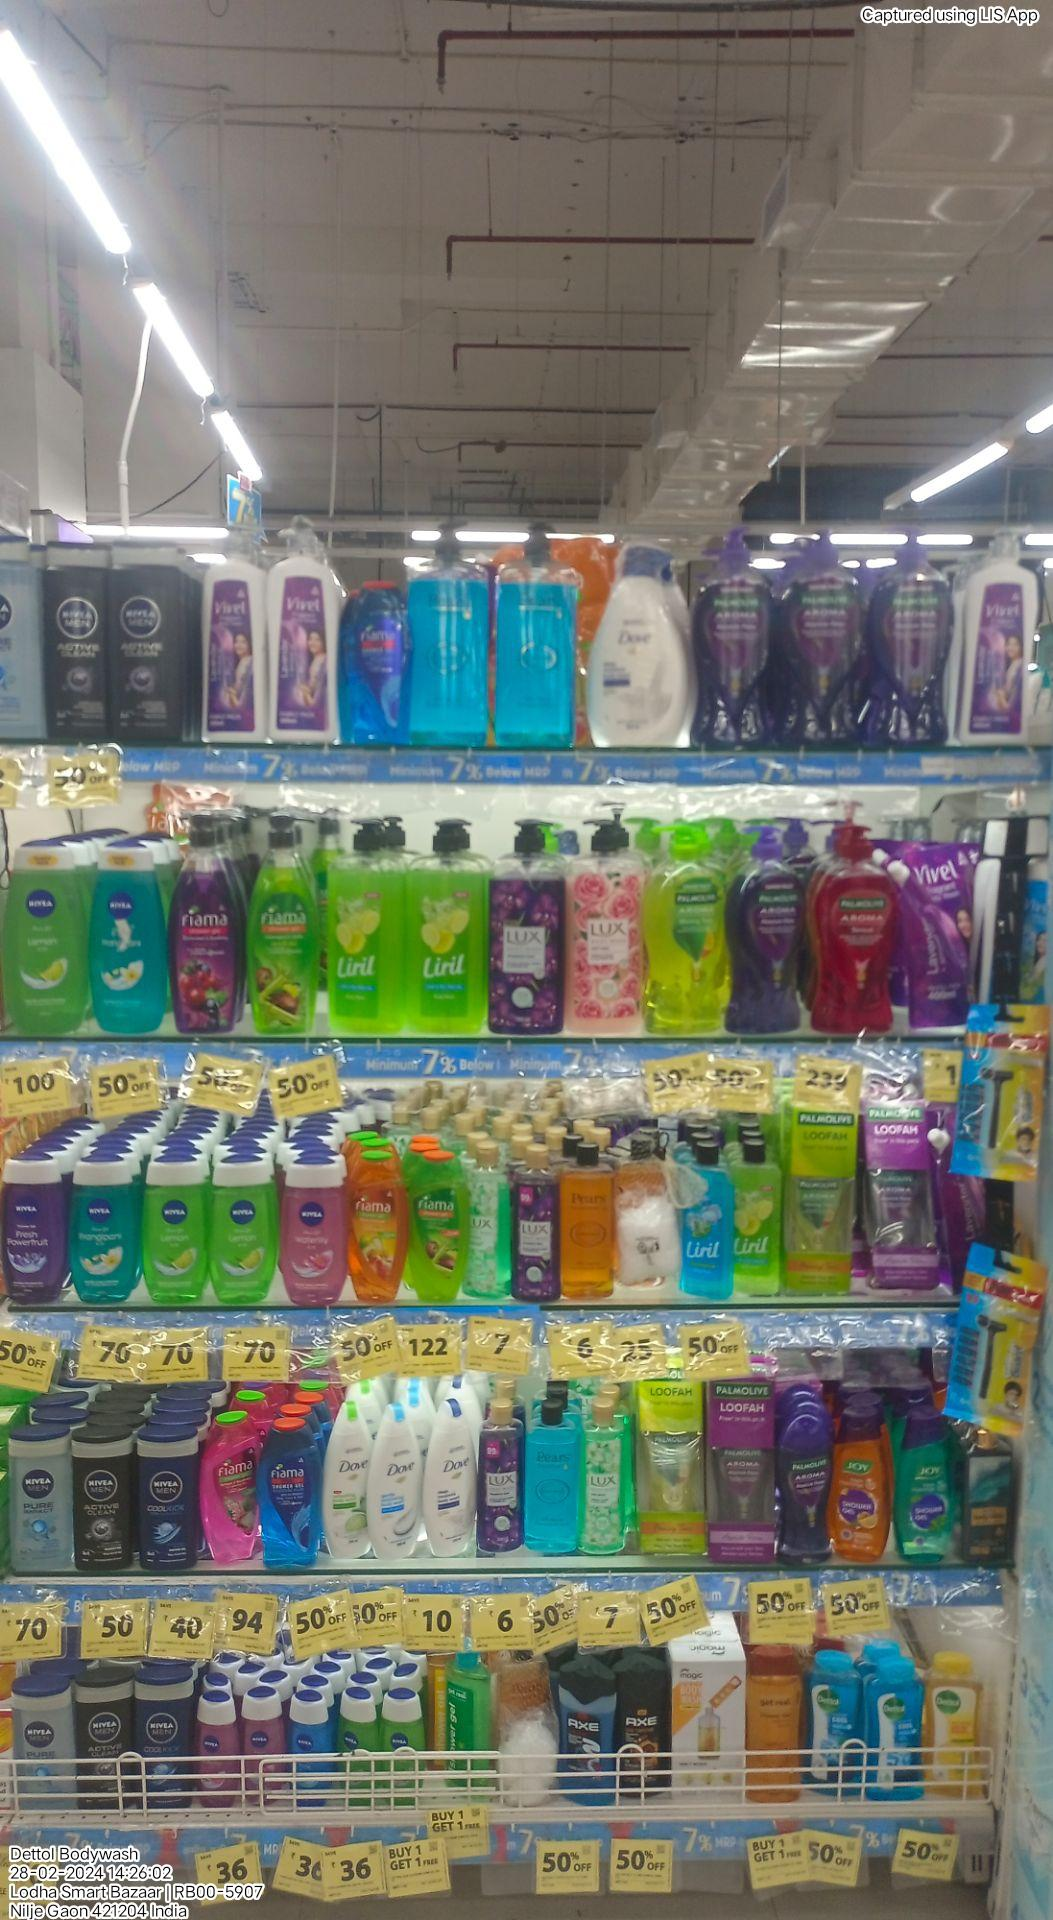Dettol_Bodywash_Cool: (807, 1650, 862, 1798), (871, 1657, 923, 1805)
Dettol_Bodywash_Refresh: (925, 1654, 983, 1801)
Dove_Deep_Moisture_Body_Wash_250ML: (424, 1400, 479, 1560)
Dove_Gentle_Exfoliating_Body_Wash_250ML: (371, 1401, 419, 1561)
Dove_Refreshing_Body_Wash_250ML: (324, 1400, 368, 1562)
Fiama_Shower_Gel_Lemongrass_and_Jojoba_250ML: (410, 1149, 464, 1300)
Fiama_Shower_Gel_Patchouli_and_Macadamia_250ML: (204, 1408, 257, 1567)
Fiama_Shower_Gel_Peach_and_Avocado_250ML: (353, 1150, 407, 1300)
Get_Real_Shower_Gel_Moisturising_Glycerin_300ML: (747, 1649, 801, 1806)
Joy_Shower_Gel_Mandarin_and_Lemongrass_250ML: (831, 1404, 890, 1561)
Joy_Shower_Gel_Mint_and_Eucalyptus_250ML: (896, 1417, 957, 1565)
Liril_Cooling_Mint_Body_Wash_250ML: (682, 1142, 733, 1303)
Liril_Lime_and_Tea_Tree_Oil_Body_Wash_250ML: (733, 1140, 779, 1296)
Lux_Black_Orchid_Scent_and_Juniper_Oil_Body_Wash_245ML: (514, 1146, 559, 1304), (480, 1399, 521, 1556)
Lux_Body_Wash_Skin_Detox_Freesia_Scent_and_Alove_Vera_245ML: (582, 1401, 629, 1556), (469, 1142, 510, 1300)
Nivea_Shower_Gel_Frangipani_and_Oil_250ML: (91, 841, 165, 1033), (69, 1154, 134, 1304)
Nivea_Shower_Gel_Fresh_Powerfruit_250ML: (3, 1156, 61, 1305)
Nivea_Shower_Gel_Lemon_and_Oil_250ML: (10, 841, 89, 1035), (211, 1159, 274, 1305), (144, 1155, 204, 1304)
Nivea_Shower_Gel_Waterlily_and_Oil_250ML: (278, 1158, 342, 1304)
Palmolive_Aroma_Relax_250ML: (779, 1417, 829, 1569)
Pears_Pure_Glycerin_and_Mint_Extracts_Body_Wash_250ML: (524, 1400, 581, 1557)
